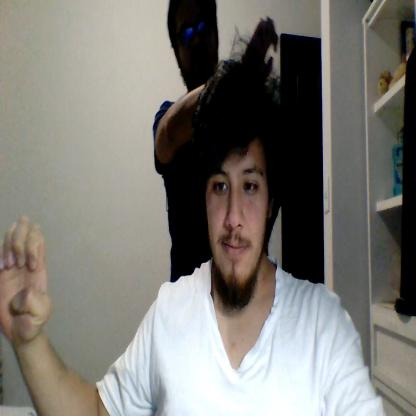E: (0, 214, 50, 342)
